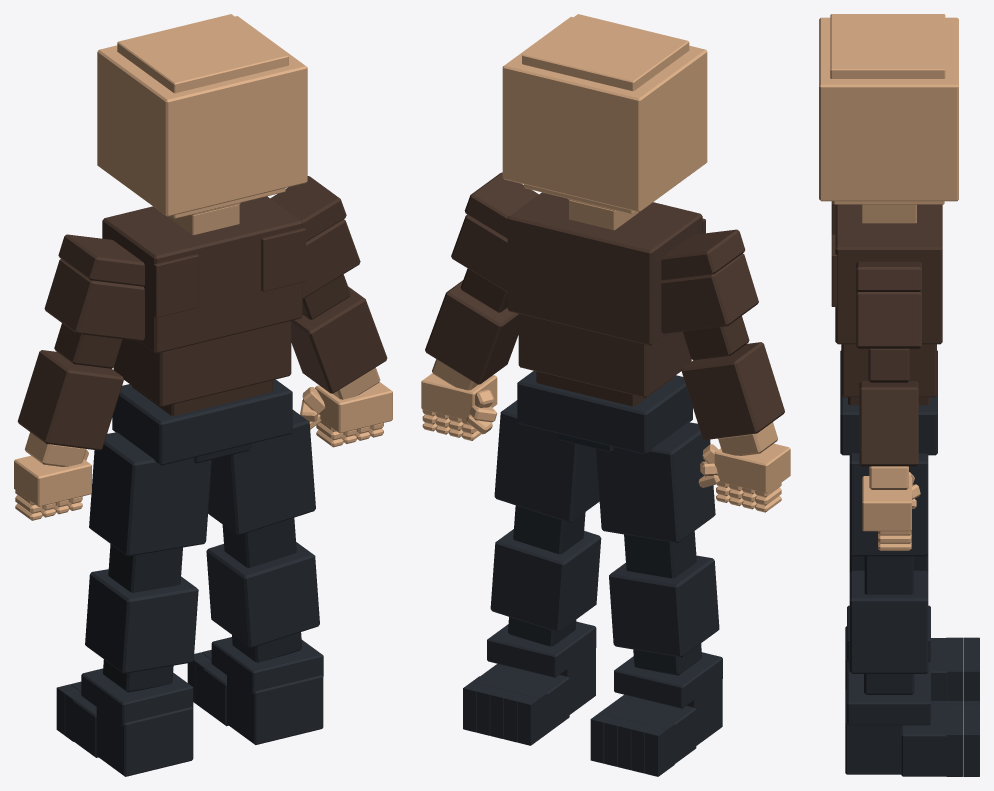
The model's file is npc_ferreiro.glb.
The picture shows the model from 3 angles, left to right: view 1: azimuth 30°, elevation 25°; view 2: azimuth 150°, elevation 25°; view 3: azimuth 270°, elevation 25°; orthographic projection. The views are drawn at different scales.
Visible parts, largest first — view 1: Geo_Head_Runtime, Geo_Chest_Runtime, Geo_Thigh_L_Runtime, Geo_Abdomen_Runtime, Geo_Shin_L_Runtime, Geo_Pelvis_Runtime, Geo_Shin_R_Runtime, Geo_Thigh_R_Runtime, Geo_HeadTop_Runtime, Geo_ForeArm_L_Runtime, Geo_ForeArm_R_Runtime, Geo_UpperArm_L_Runtime (+23 smaller); view 2: Geo_Head_Runtime, Geo_Chest_Runtime, Geo_Thigh_L_Runtime, Geo_Abdomen_Runtime, Geo_Shin_L_Runtime, Geo_Pelvis_Runtime, Geo_Shin_R_Runtime, Geo_Thigh_R_Runtime, Geo_HeadTop_Runtime, Geo_ForeArm_L_Runtime, Geo_ForeArm_R_Runtime, Geo_UpperArm_L_Runtime (+31 smaller); view 3: Geo_Head_Runtime, Geo_Chest_Runtime, Geo_HeadTop_Runtime, Geo_Shin_R_Runtime, Geo_ForeArm_R_Runtime, Geo_UpperArm_R_Runtime, Geo_Thigh_R_Runtime, Geo_AnkleCuff_R_Runtime, Geo_Heel_R_Runtime, Geo_Foot_R_Runtime, Geo_Abdomen_Runtime, Geo_Pelvis_Runtime (+17 smaller).
Boxes of the visible parts, left/top/right/bottom form: Geo_Head_Runtime: left=97, top=16, right=307, bottom=216; Geo_Chest_Runtime: left=102, top=196, right=302, bottom=353; Geo_Thigh_L_Runtime: left=89, top=432, right=211, bottom=556; Geo_Abdomen_Runtime: left=113, top=321, right=291, bottom=407; Geo_Shin_L_Runtime: left=85, top=569, right=198, bottom=673; Geo_Pelvis_Runtime: left=112, top=379, right=292, bottom=465; Geo_Shin_R_Runtime: left=206, top=542, right=319, bottom=647; Geo_Thigh_R_Runtime: left=208, top=410, right=315, bottom=535; Geo_HeadTop_Runtime: left=117, top=14, right=288, bottom=93; Geo_ForeArm_L_Runtime: left=17, top=350, right=123, bottom=450; Geo_ForeArm_R_Runtime: left=291, top=286, right=387, bottom=393; Geo_UpperArm_L_Runtime: left=44, top=259, right=144, bottom=341; Geo_Head_Runtime: left=502, top=17, right=707, bottom=212; Geo_Chest_Runtime: left=507, top=192, right=702, bottom=345; Geo_Thigh_L_Runtime: left=596, top=422, right=715, bottom=543; Geo_Abdomen_Runtime: left=518, top=314, right=691, bottom=397; Geo_Shin_L_Runtime: left=609, top=555, right=719, bottom=657; Geo_Pelvis_Runtime: left=517, top=371, right=692, bottom=454; Geo_Shin_R_Runtime: left=490, top=529, right=601, bottom=632; Geo_Thigh_R_Runtime: left=494, top=400, right=599, bottom=522; Geo_HeadTop_Runtime: left=522, top=14, right=689, bottom=91; Geo_ForeArm_L_Runtime: left=681, top=342, right=784, bottom=439; Geo_ForeArm_R_Runtime: left=425, top=280, right=518, bottom=384; Geo_UpperArm_L_Runtime: left=661, top=253, right=758, bottom=333; Geo_Head_Runtime: left=819, top=17, right=958, bottom=201; Geo_Chest_Runtime: left=835, top=204, right=942, bottom=344; Geo_HeadTop_Runtime: left=830, top=14, right=945, bottom=78; Geo_Shin_R_Runtime: left=849, top=570, right=928, bottom=673; Geo_ForeArm_R_Runtime: left=859, top=381, right=918, bottom=466; Geo_UpperArm_R_Runtime: left=856, top=290, right=921, bottom=348; Geo_Thigh_R_Runtime: left=849, top=453, right=928, bottom=556; Geo_AnkleCuff_R_Runtime: left=847, top=669, right=930, bottom=725; Geo_Heel_R_Runtime: left=845, top=689, right=902, bottom=774; Geo_Foot_R_Runtime: left=901, top=701, right=946, bottom=776; Geo_Abdomen_Runtime: left=841, top=344, right=936, bottom=397; Geo_Pelvis_Runtime: left=840, top=350, right=937, bottom=455.
Size of the model in its own units: 1.07 by 1.98 by 0.4192.
